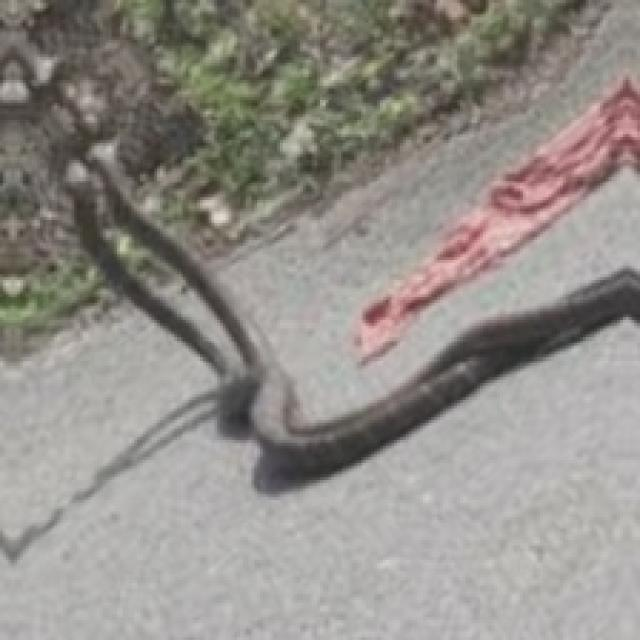king cobra: (0, 320, 637, 637), (217, 3, 637, 414), (0, 303, 214, 534)
